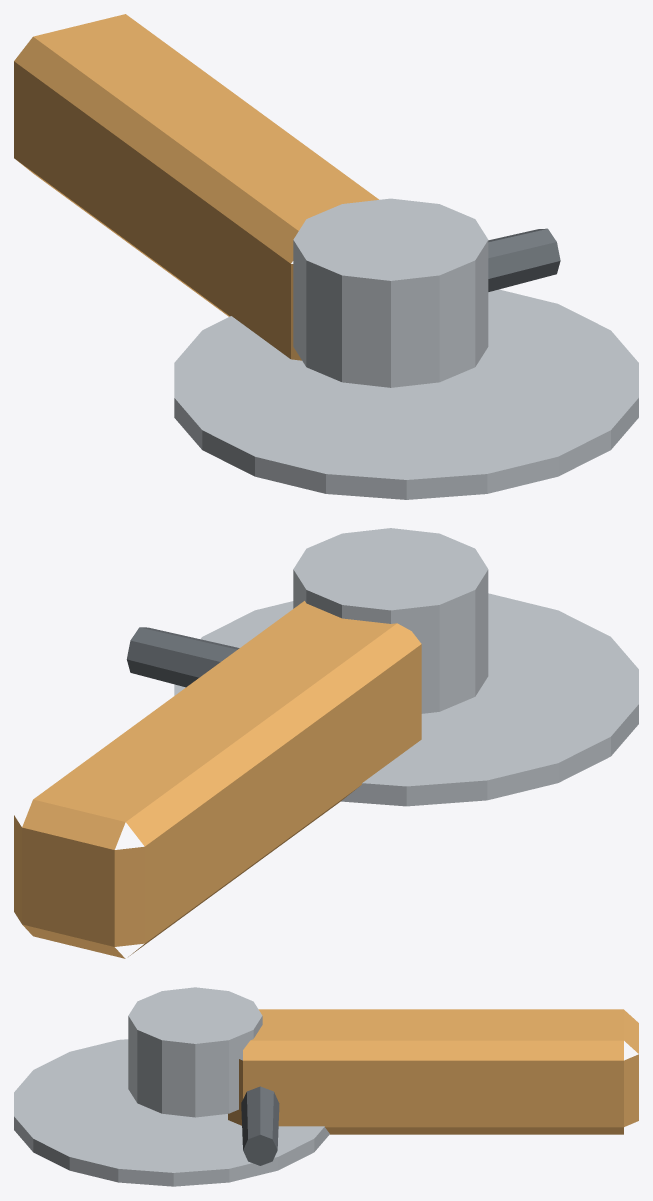
Rendered from angle_grinder.glb.
3 views of the same model, one above another, from view 1: azimuth 30°, elevation 25°; view 2: azimuth 150°, elevation 25°; view 3: azimuth 270°, elevation 25° (orthographic). The views are drawn at different scales.
Parts seen in each view (by area): view 1: MetalBody, HousingAccent, ErgonomicGrip; view 2: HousingAccent, MetalBody, ErgonomicGrip; view 3: HousingAccent, MetalBody, ErgonomicGrip.
Boxes of the visible parts, x1,y1,x2,y2 form: MetalBody: (174, 198, 638, 499); HousingAccent: (14, 14, 378, 360); ErgonomicGrip: (488, 228, 560, 291); HousingAccent: (14, 601, 421, 958); MetalBody: (174, 528, 638, 806); ErgonomicGrip: (126, 627, 239, 687); HousingAccent: (228, 1009, 638, 1134); MetalBody: (14, 987, 329, 1186); ErgonomicGrip: (241, 1086, 279, 1165).
Size of the model in its own units: 0.3 by 0.1055 by 0.5777.
